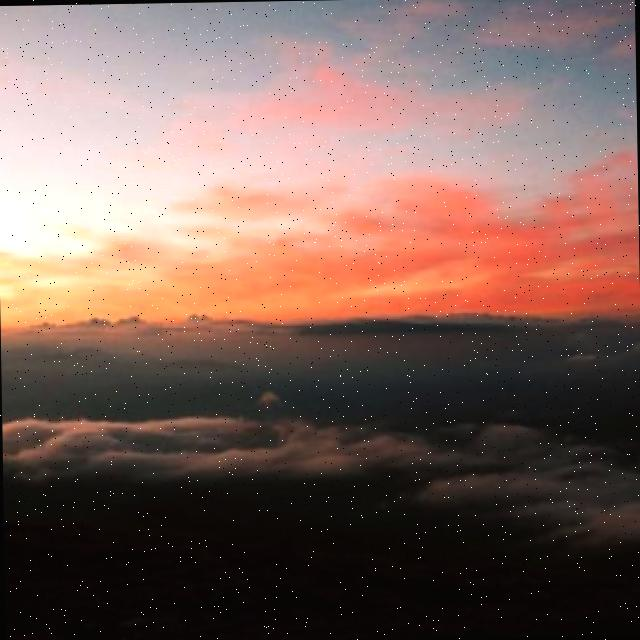Ci: (1, 105, 640, 602)
